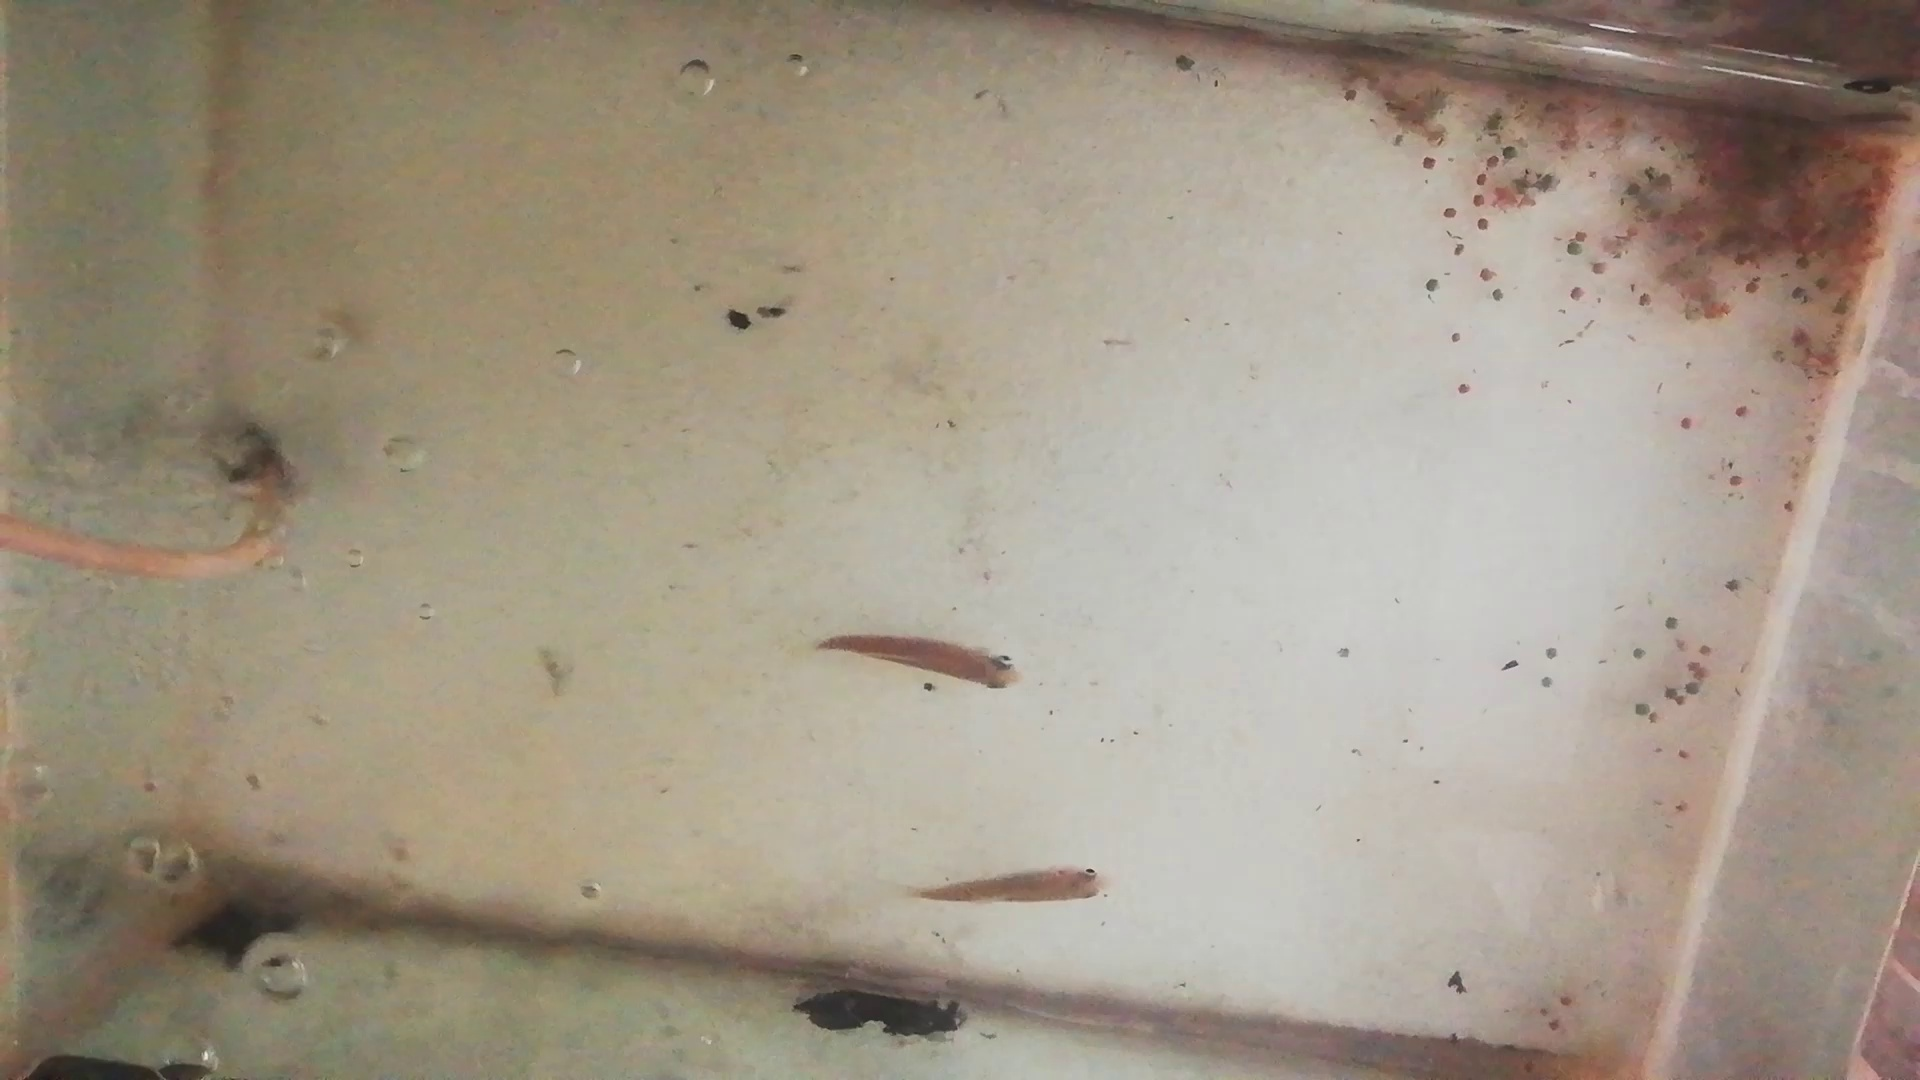fish: (808, 629, 1021, 694), (914, 860, 1110, 907)
